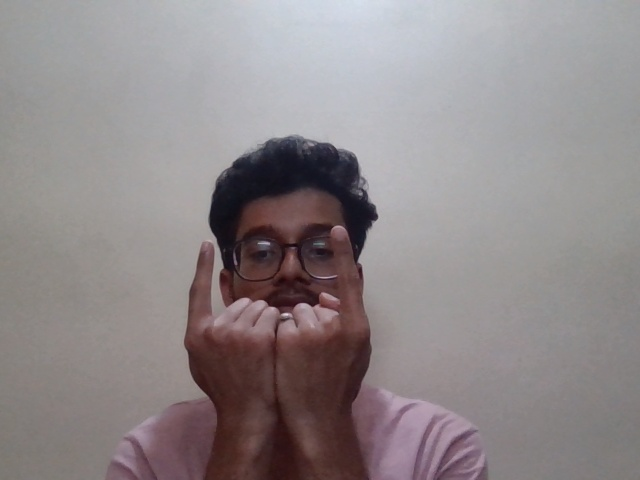when: (187, 224, 381, 411)
